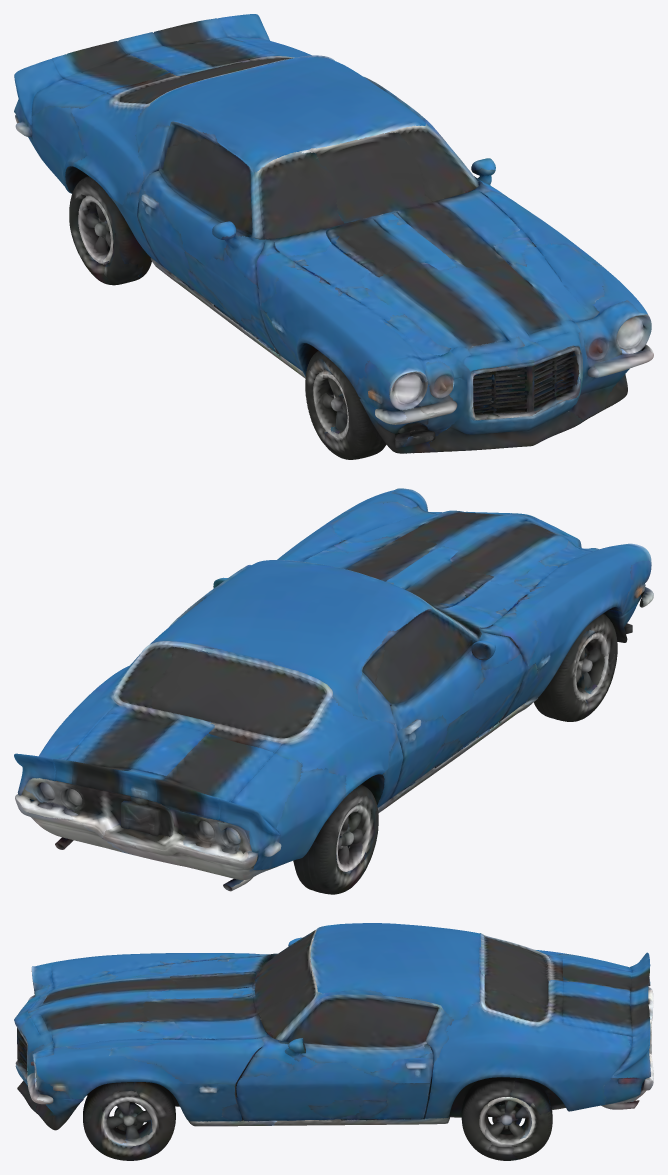
The model's file is base_basic_shaded.glb.
3 renders of one model, top to bottom at view 1: azimuth 30°, elevation 25°; view 2: azimuth 150°, elevation 25°; view 3: azimuth 270°, elevation 25°, orthographic. The views are drawn at different scales.
Visible parts, largest first — view 1: model; view 2: model; view 3: model.
Boxes of the visible parts, x1,y1,x2,y2 form: model: (14, 14, 653, 459); model: (14, 488, 653, 894); model: (14, 923, 653, 1160).
Bounding box in the file's own units: 0.7698 × 0.546 × 1.9.
Materials: 1 (1 with a texture image).
